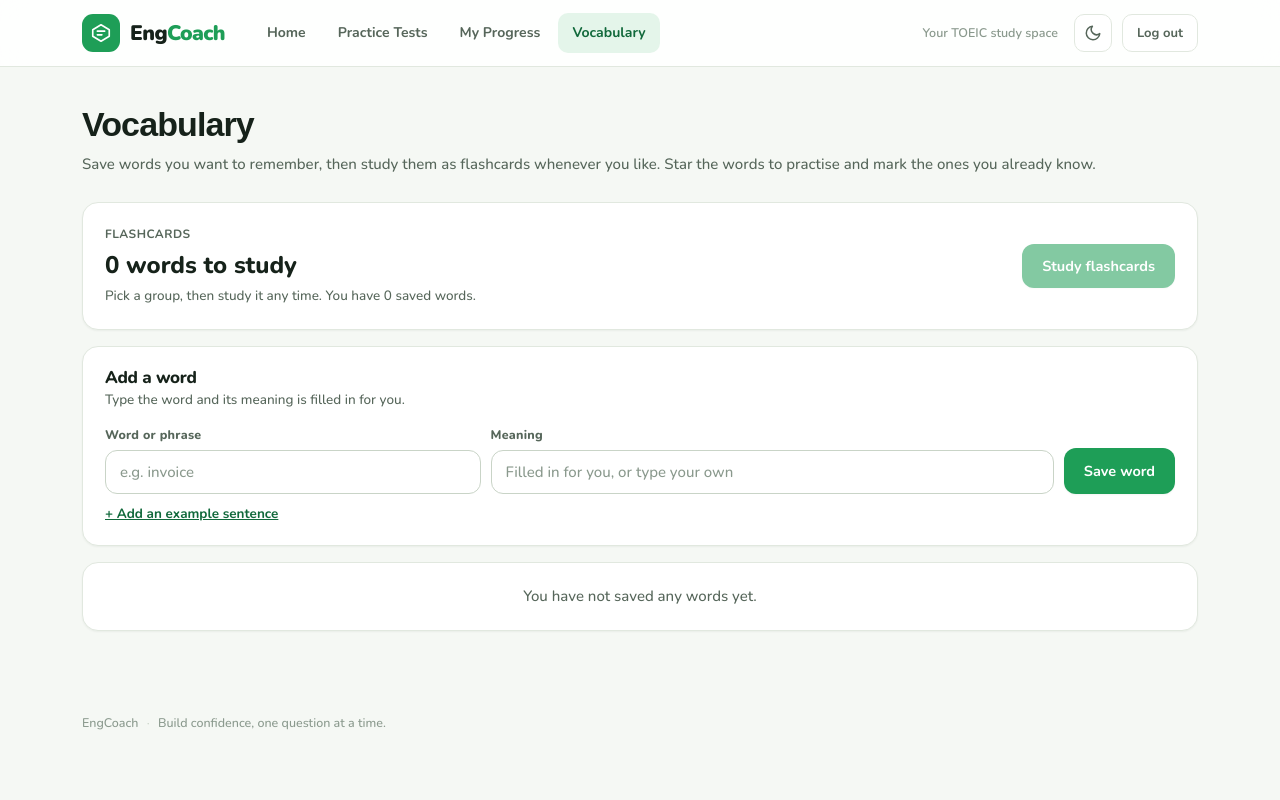
Vocabulary page › saves a new word and reloads the list
The image size is (1280, 800).
In the field labelled "Word or phrase": (293, 472) [105,450,480,494], type "refund"
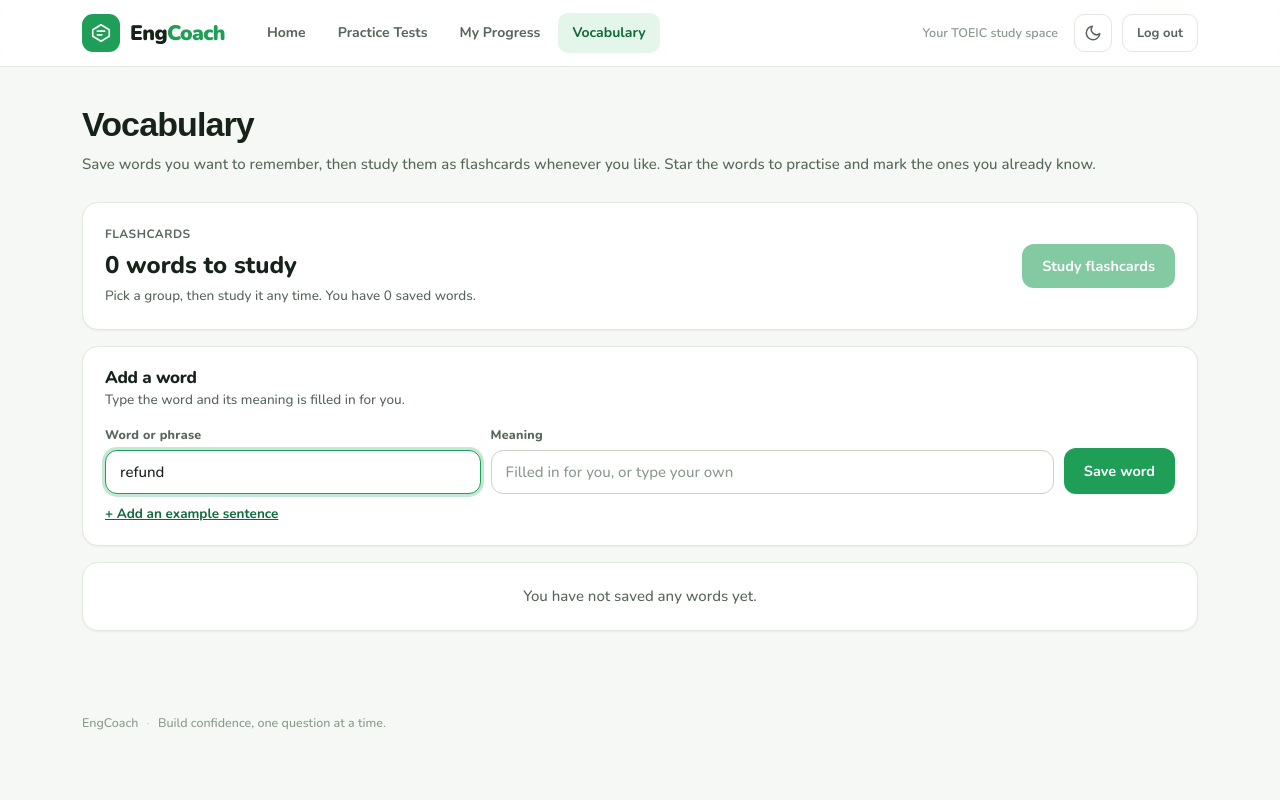
In the field labelled "Meaning": (772, 472) [490,450,1054,494], type "hoan tien"
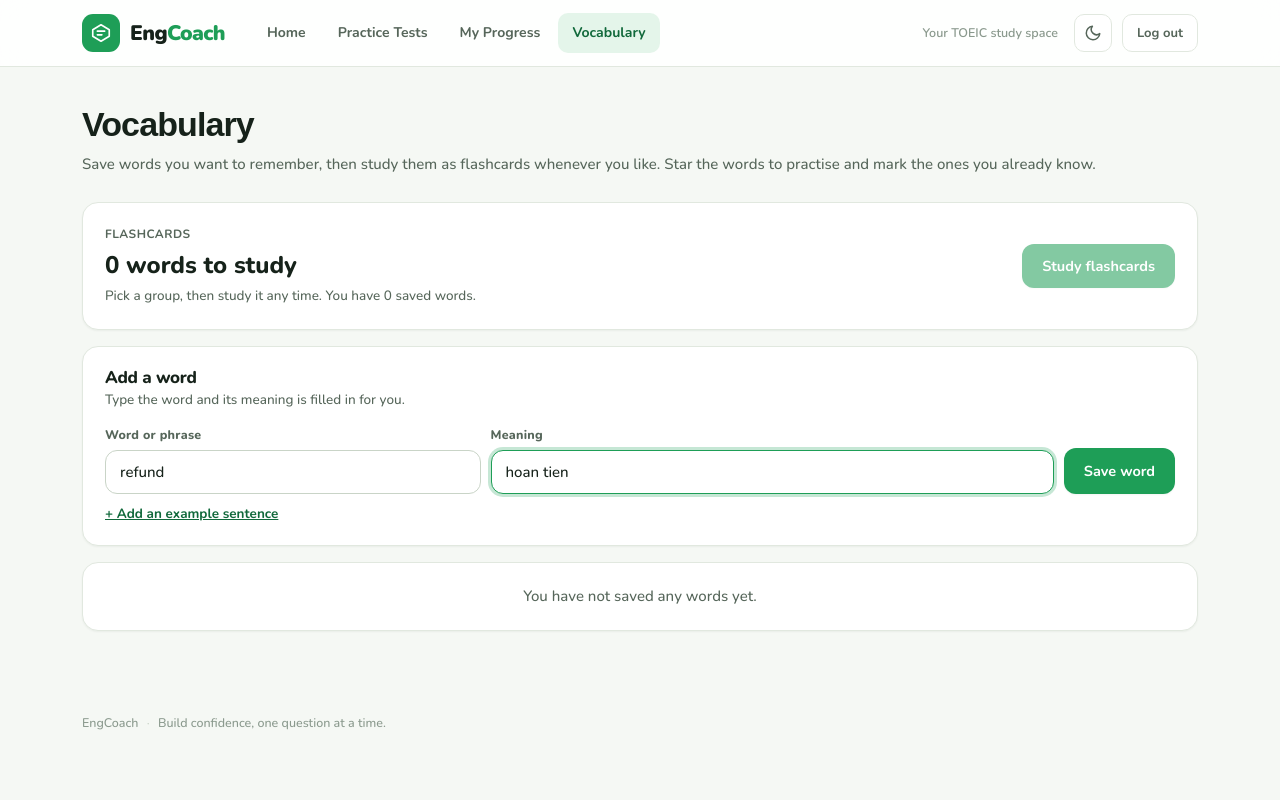
Click the button "Save word": (1119, 471) [1064,448,1175,494]
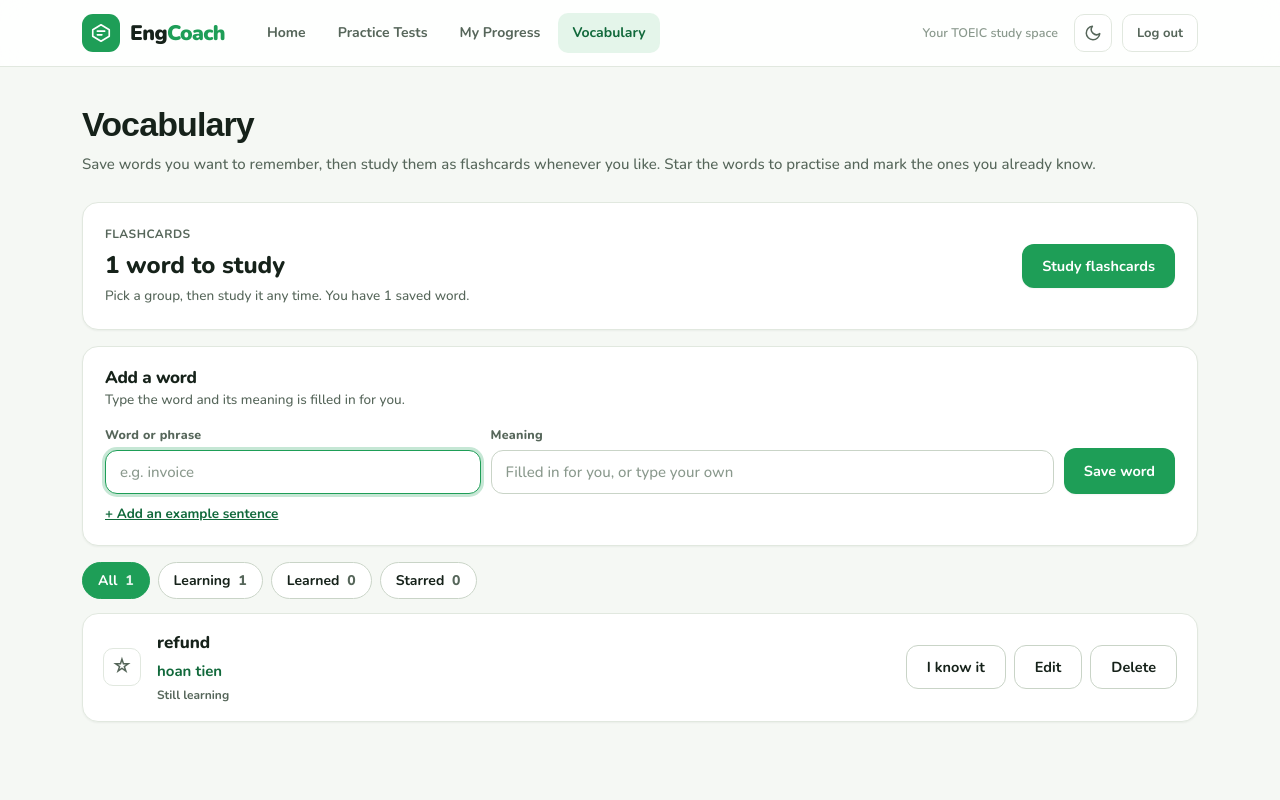
Expected: the text "1 word to study" is shown, [105,249,285,281]
Expected: the field labelled "Word or phrase" is empty, [105,450,480,494]
